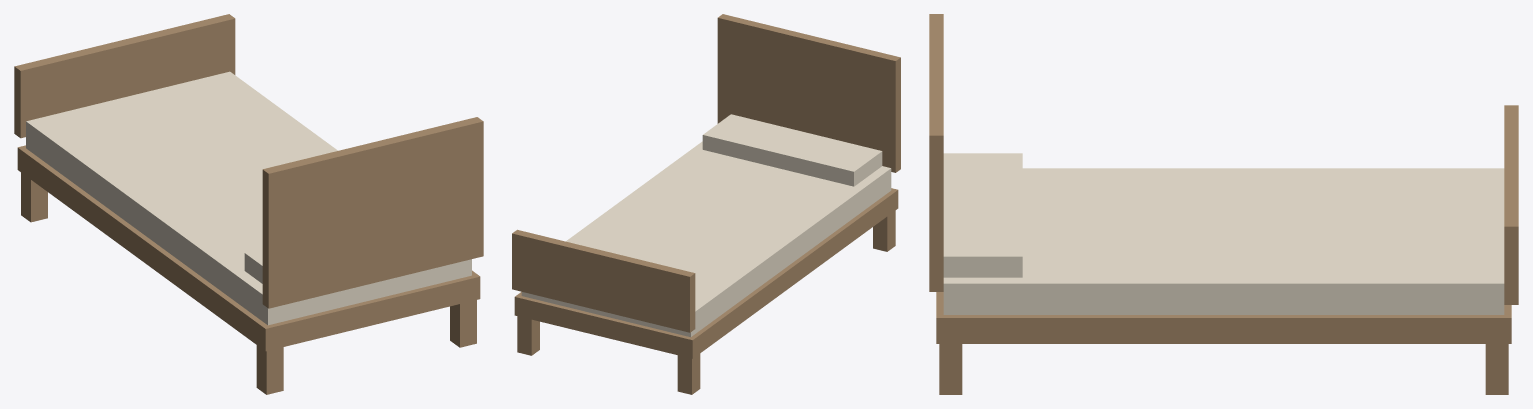
File: WoodenBed.fbx
3 renders of one model, left to right at view 1: azimuth 30°, elevation 25°; view 2: azimuth 150°, elevation 25°; view 3: azimuth 270°, elevation 25°, orthographic. The views are drawn at different scales.
Parts seen in each view (by area): view 1: WoodenBed; view 2: WoodenBed; view 3: WoodenBed.
Part boxes in pixels (x1,y1,x2,y2): WoodenBed: [14, 14, 483, 394]; WoodenBed: [512, 14, 900, 394]; WoodenBed: [929, 14, 1518, 394].
Bounding box in the file's own units: 100 × 100 × 205.
